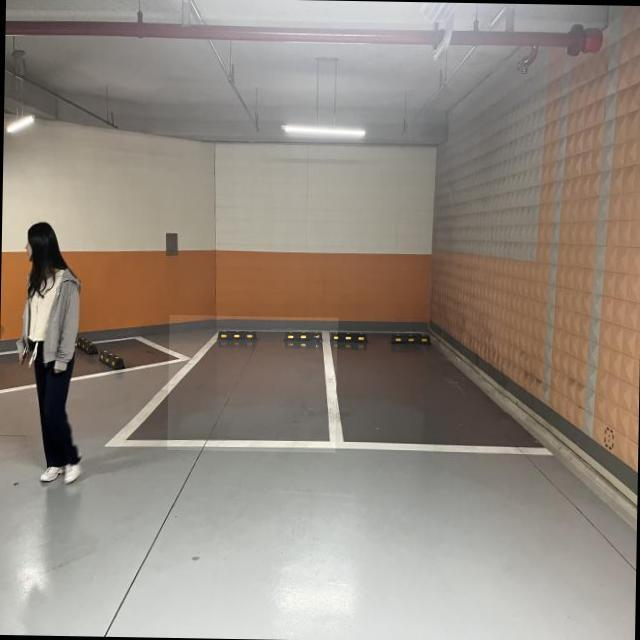empty: (167, 314, 338, 452), (336, 328, 508, 454)
